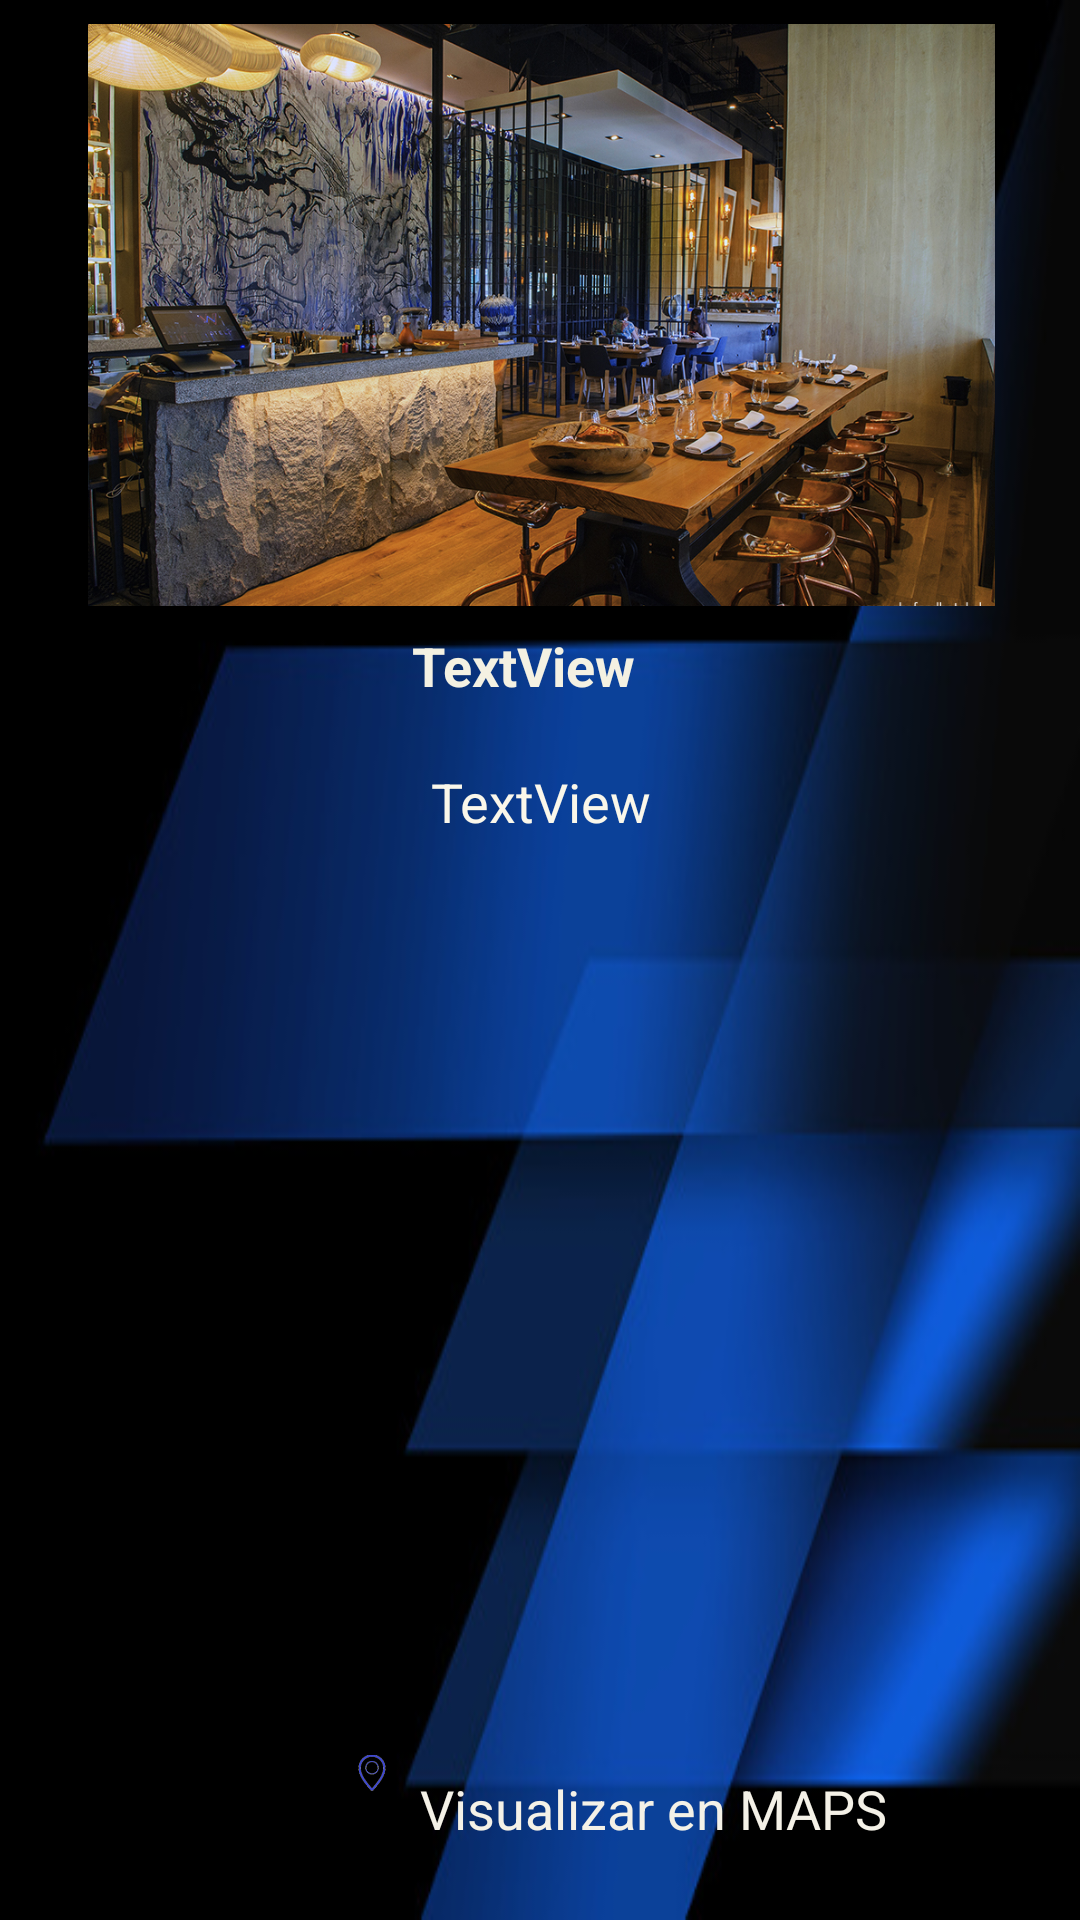

Named icons in this screenshot (1080px×1920px) and their centers, (x=x, y=y):
georef: (x=372, y=1773)
